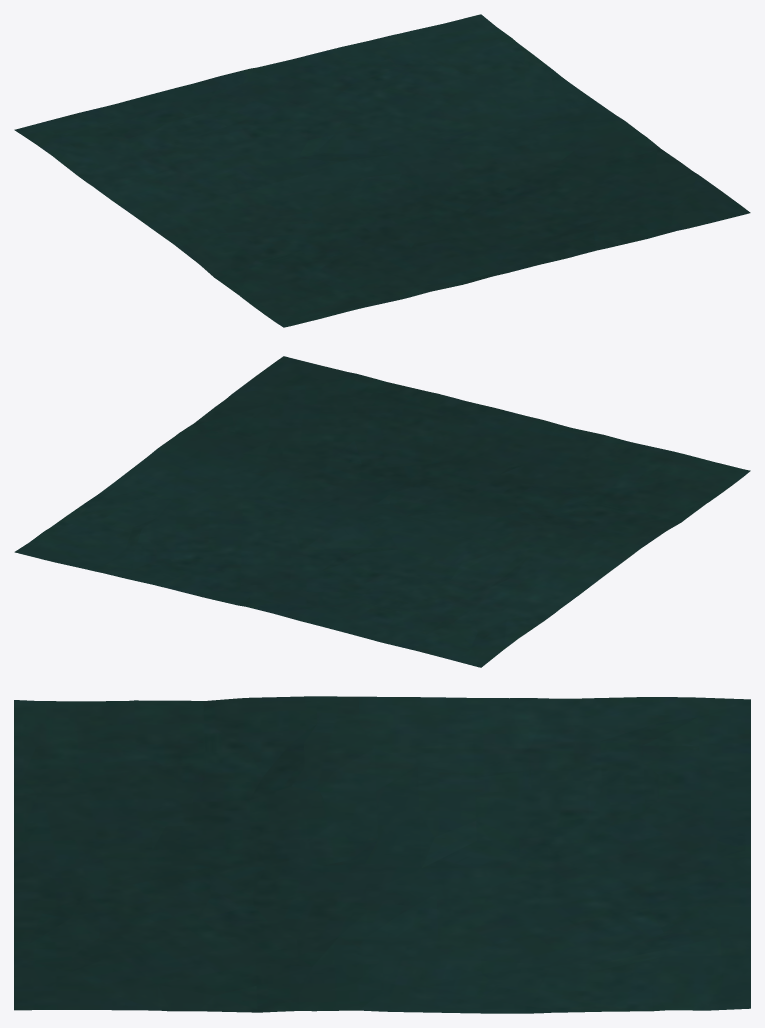
The picture shows the model from 3 angles, top to bottom: view 1: azimuth 30°, elevation 25°; view 2: azimuth 150°, elevation 25°; view 3: azimuth 270°, elevation 25°; orthographic projection. The views are drawn at different scales.
Bounding box in the file's own units: 52.22 × 0.7495 × 52.22.
Materials: 2 (2 with a texture image).
